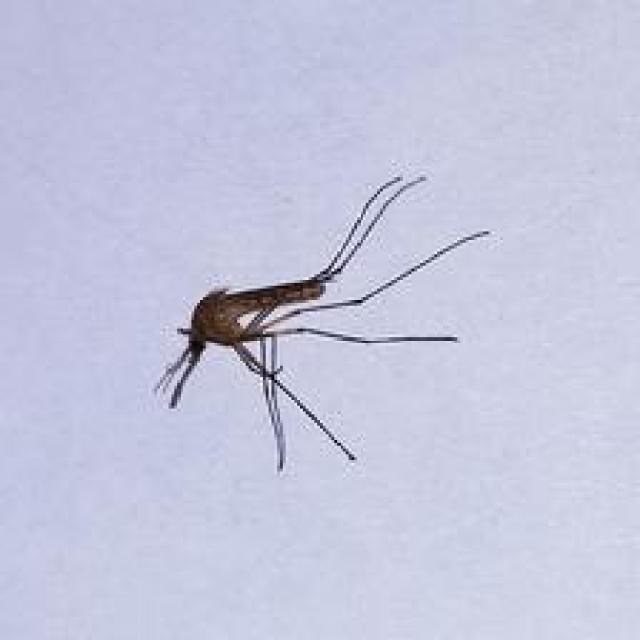Culex: (152, 172, 492, 474)
